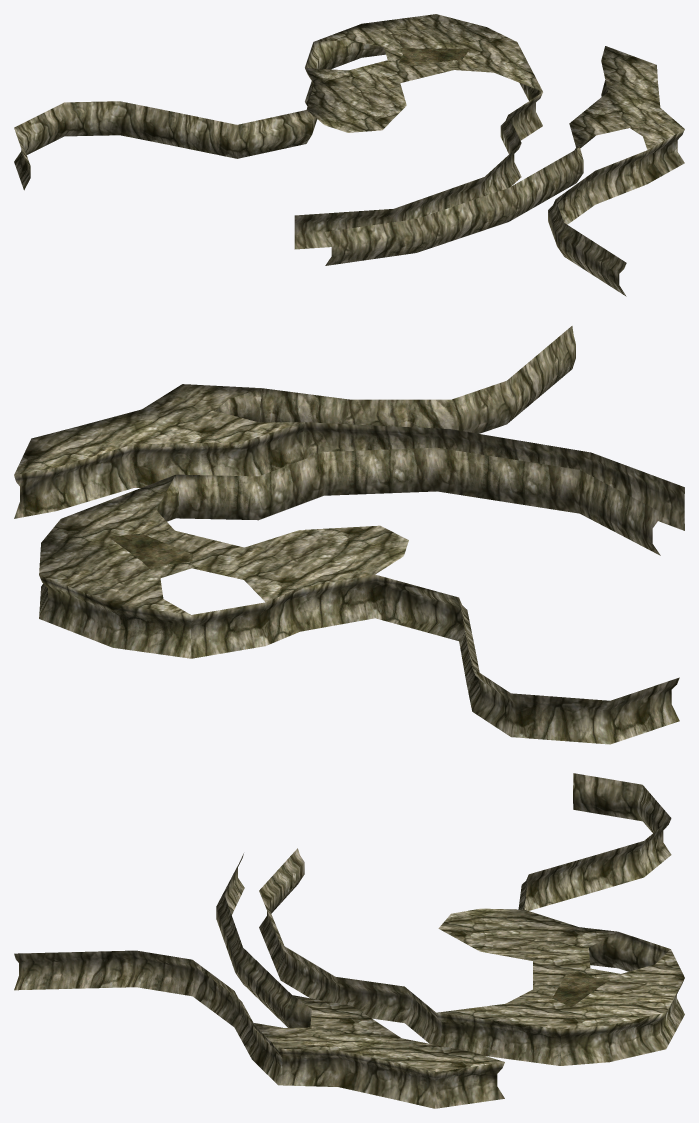
Rendered from CB_NEWPLAYSURFACE_CB_PLAYSURFACE149.fbx.
3 views of the same model, one above another, from view 1: azimuth 30°, elevation 25°; view 2: azimuth 150°, elevation 25°; view 3: azimuth 270°, elevation 25° (orthographic). The views are drawn at different scales.
Parts seen in each view (by area): view 1: CB_NEWPLAYSURFACE_CB_PLAYSURFACE149; view 2: CB_NEWPLAYSURFACE_CB_PLAYSURFACE149; view 3: CB_NEWPLAYSURFACE_CB_PLAYSURFACE149.
Boxes of the visible parts, <box> form: CB_NEWPLAYSURFACE_CB_PLAYSURFACE149: <box>14,14,684,296</box>; CB_NEWPLAYSURFACE_CB_PLAYSURFACE149: <box>14,326,684,744</box>; CB_NEWPLAYSURFACE_CB_PLAYSURFACE149: <box>14,773,684,1108</box>.
Bounding box in the file's own units: 524400 × 30000 × 497279.
3 materials, 3 textured.
